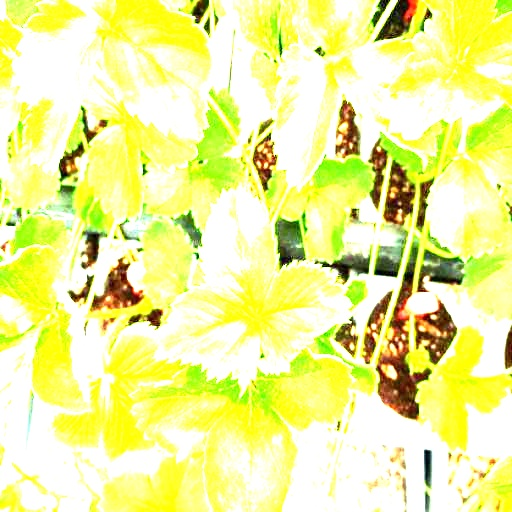Powdery Mildew Leaf: (100, 0, 215, 139), (196, 183, 280, 316), (28, 283, 92, 415), (0, 245, 68, 338)
